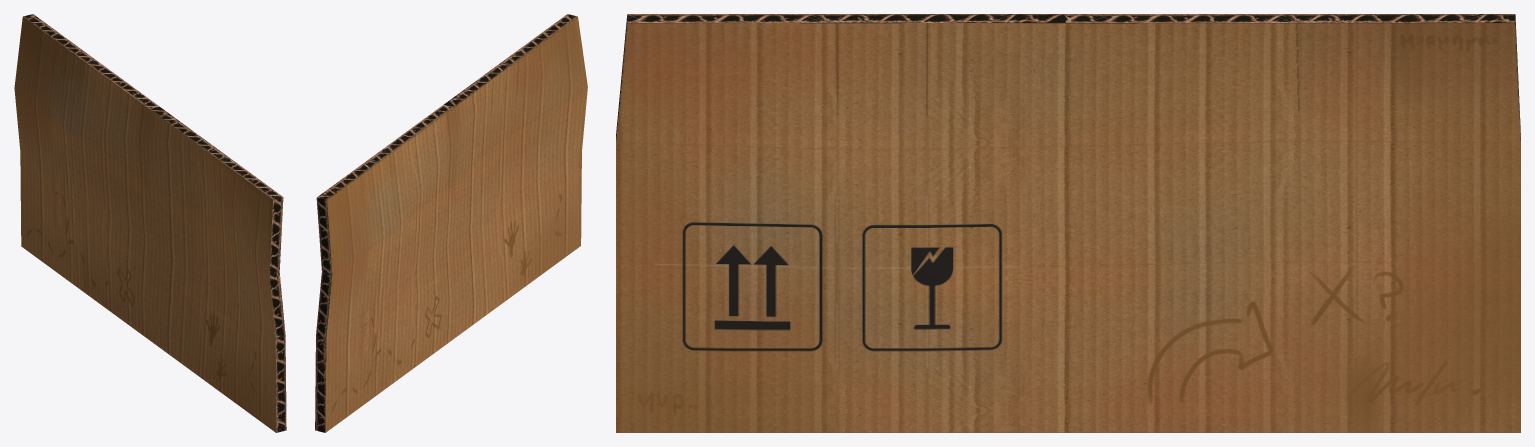
Rendered from Carton_2.fbx.
The picture shows the model from 3 angles, left to right: view 1: azimuth 30°, elevation 25°; view 2: azimuth 150°, elevation 25°; view 3: azimuth 270°, elevation 25°; orthographic projection. The views are drawn at different scales.
Visible parts, largest first — view 1: Pared_1x2_0; view 2: Pared_1x2_0; view 3: Pared_1x2_0.
Part boxes in pixels (bbox=[...]): Pared_1x2_0: bbox=[14, 14, 286, 432]; Pared_1x2_0: bbox=[315, 14, 587, 432]; Pared_1x2_0: bbox=[616, 14, 1520, 432].
Bounding box in the file's own units: 0.9883 × 10 × 20.
1 material, 1 textured.
